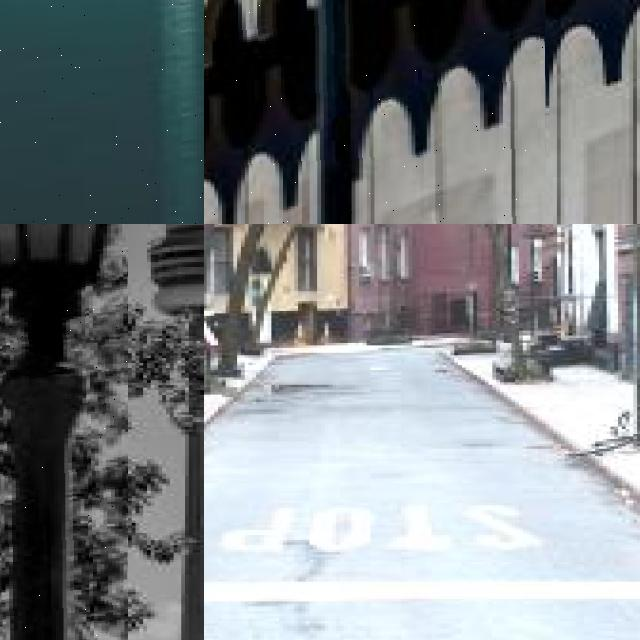street light: (204, 0, 545, 224), (0, 224, 127, 640), (0, 0, 204, 224), (477, 224, 538, 380)
